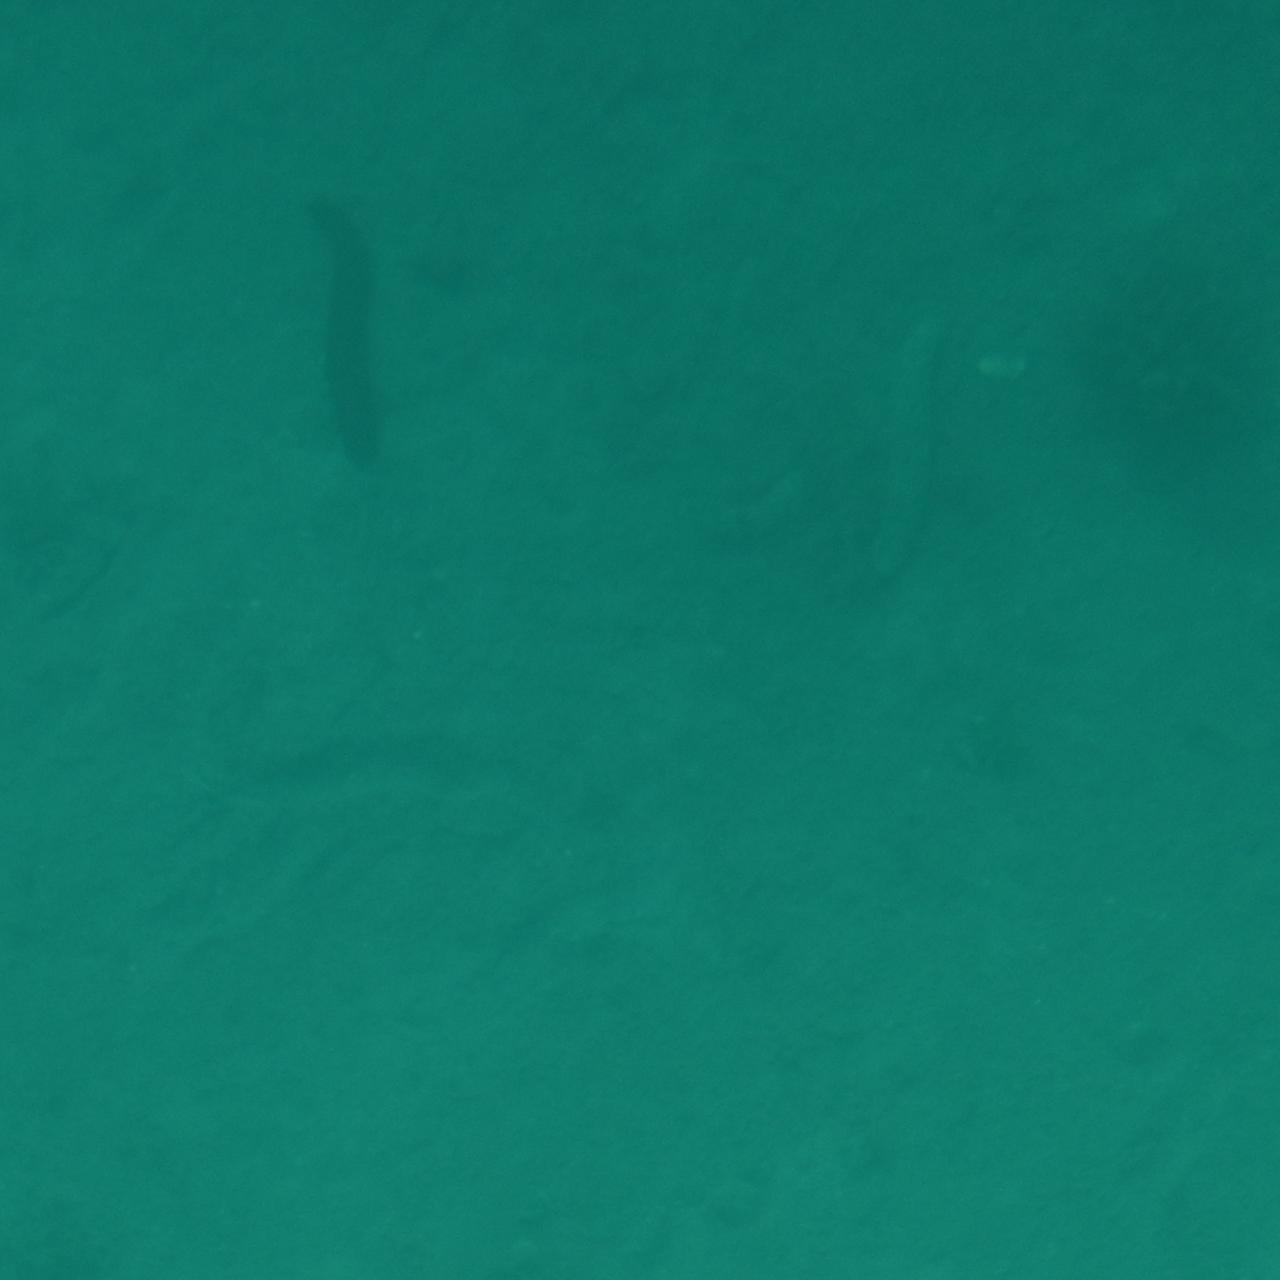Holothuria tubulosa: (856, 213, 964, 653), (314, 176, 428, 496)
